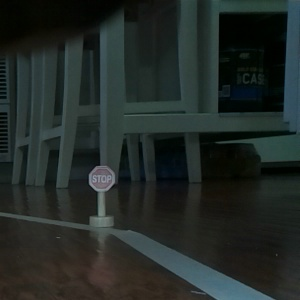stop sign: (84, 164, 119, 230)
